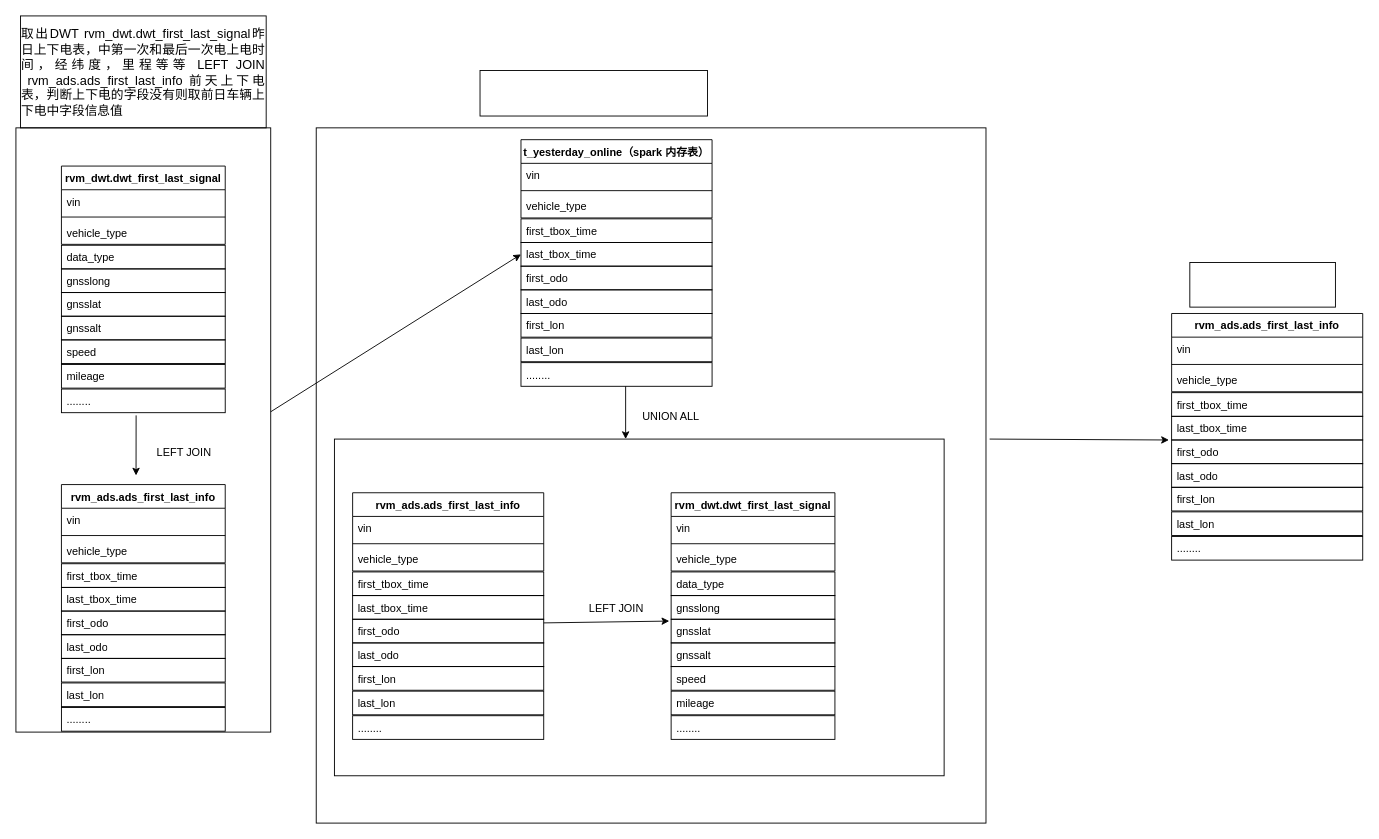
The diagram is 1379 pixels wide and 839 high, and some of its shapes have lost their labels. Each missing label, with the box of its shape:
写入昨日上下电表分区中: (1189, 262, 1335, 307)
查询出前天以往所有上线过的车辆没有在昨日上线的车辆， 与昨日的车辆数据合并起来。: (479, 70, 708, 116)
